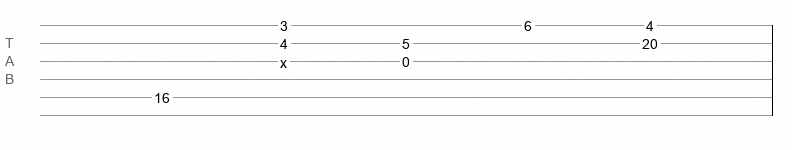0: (402, 54, 410, 64)
16: (154, 90, 170, 100)
20: (642, 36, 658, 46)
3: (280, 18, 288, 28)
4: (280, 36, 288, 46), (646, 18, 654, 28)
5: (402, 36, 410, 46)
6: (524, 18, 532, 28)
x: (280, 55, 287, 63)
